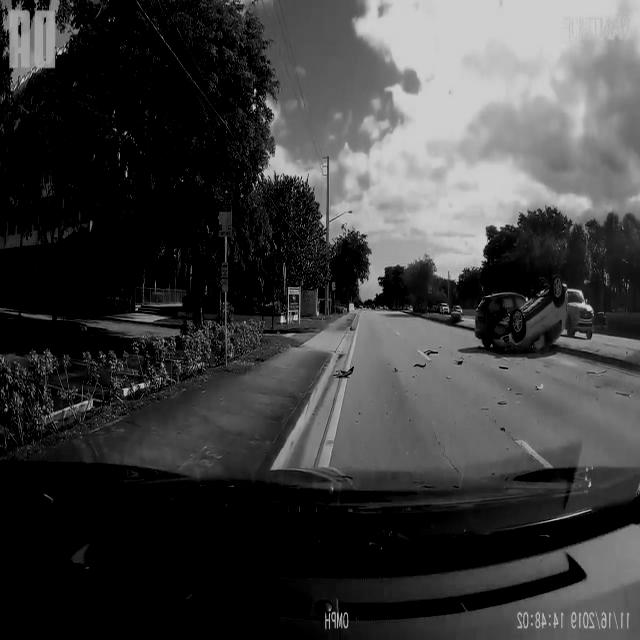accident: (468, 279, 572, 355)
